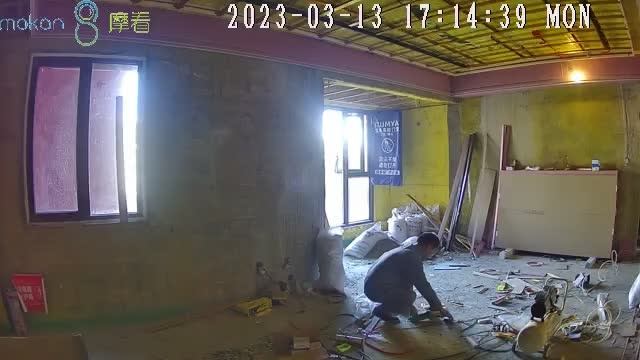people: (364, 232, 454, 322)
window: (29, 57, 140, 217), (324, 106, 403, 226)
